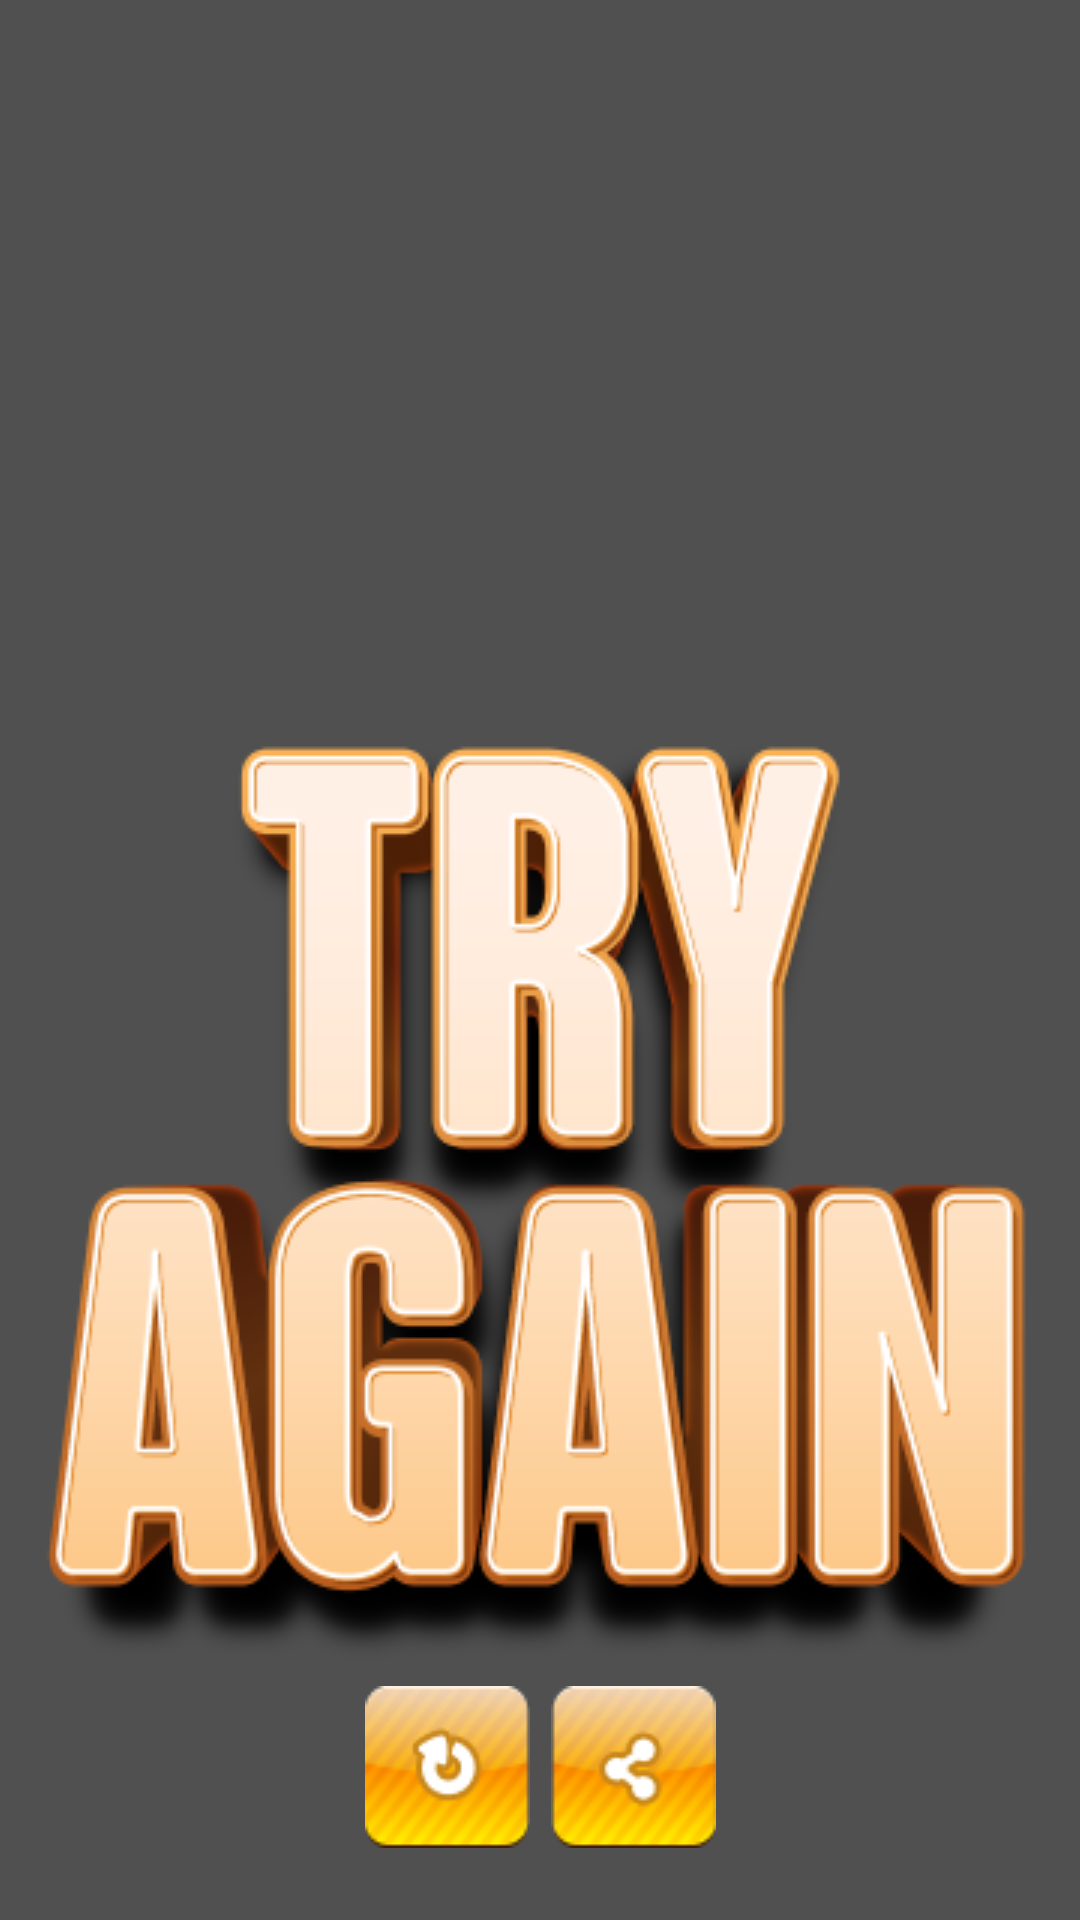

Icon bounding boxes for this 1080px x 1920px phone screenshot, format {"left": x1, "top": y1, "right": x2, "bottom": y2}:
start again: {"left": 365, "top": 1686, "right": 530, "bottom": 1848}
